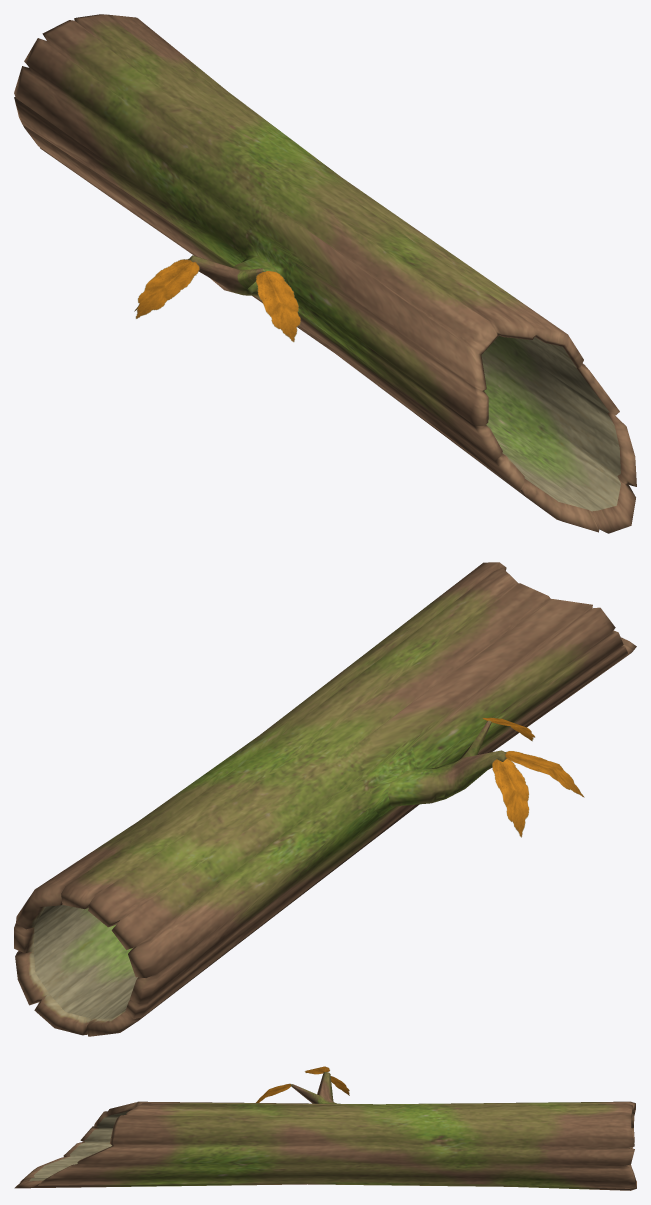
File: log_big_a.glb
3 views of the same model, one above another, from view 1: azimuth 30°, elevation 25°; view 2: azimuth 150°, elevation 25°; view 3: azimuth 270°, elevation 25° (orthographic). The views are drawn at different scales.
Parts seen in each view (by area): view 1: trees_log_mossy.png__; view 2: trees_log_mossy.png__; view 3: trees_log_mossy.png__.
Part boxes in pixels (x1,y1,x2,y2): trees_log_mossy.png__: (14,14,636,533); trees_log_mossy.png__: (14,562,636,1036); trees_log_mossy.png__: (14,1066,636,1190).
Bounding box in the file's own units: 4.89 × 2.23 × 15.49.
1 material, 1 textured.
